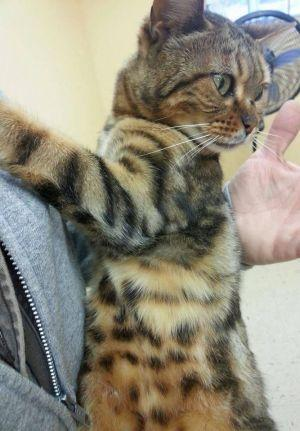bengal: (123, 1, 280, 168)
